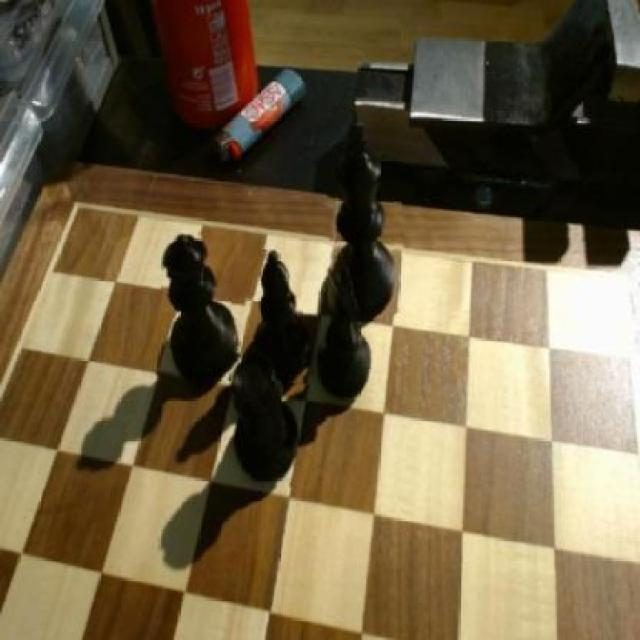bishop: (243, 250, 319, 384)
black-bishop: (326, 121, 405, 317)
black-king: (318, 262, 380, 401)
black-pawn: (158, 234, 248, 380)
black-queen: (229, 354, 304, 485)
